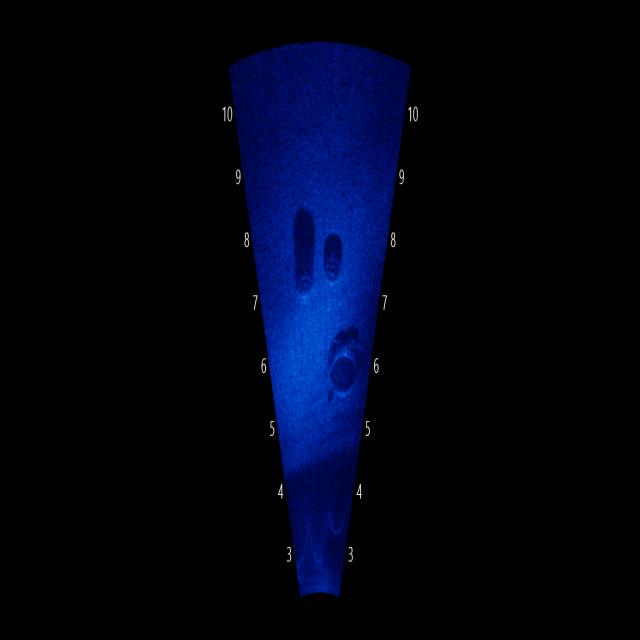circle: (326, 342, 360, 396), (321, 247, 344, 286)
